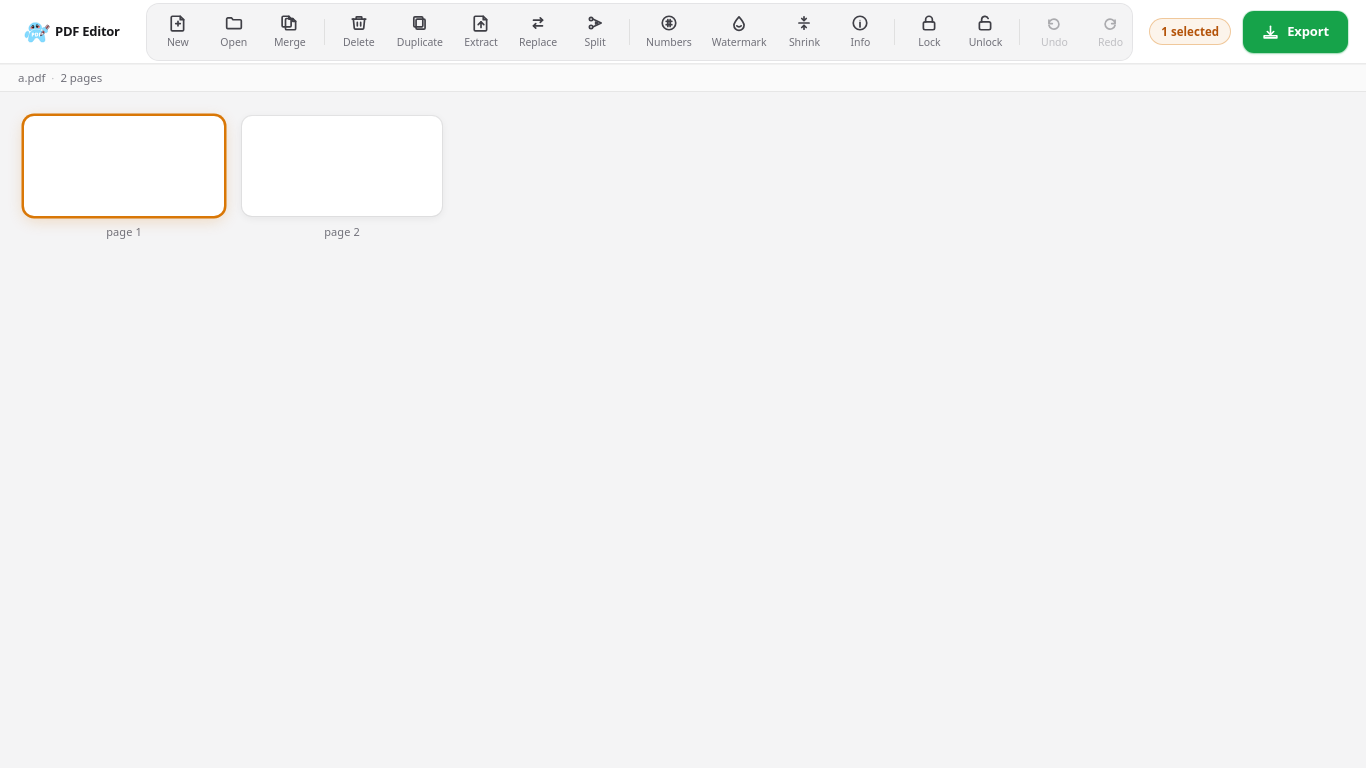
Test: Shrink file size opens the ShrinkModal
The image size is (1366, 768).
Click the button "Shrink": coordinates (804, 32) [778,8,832,56]
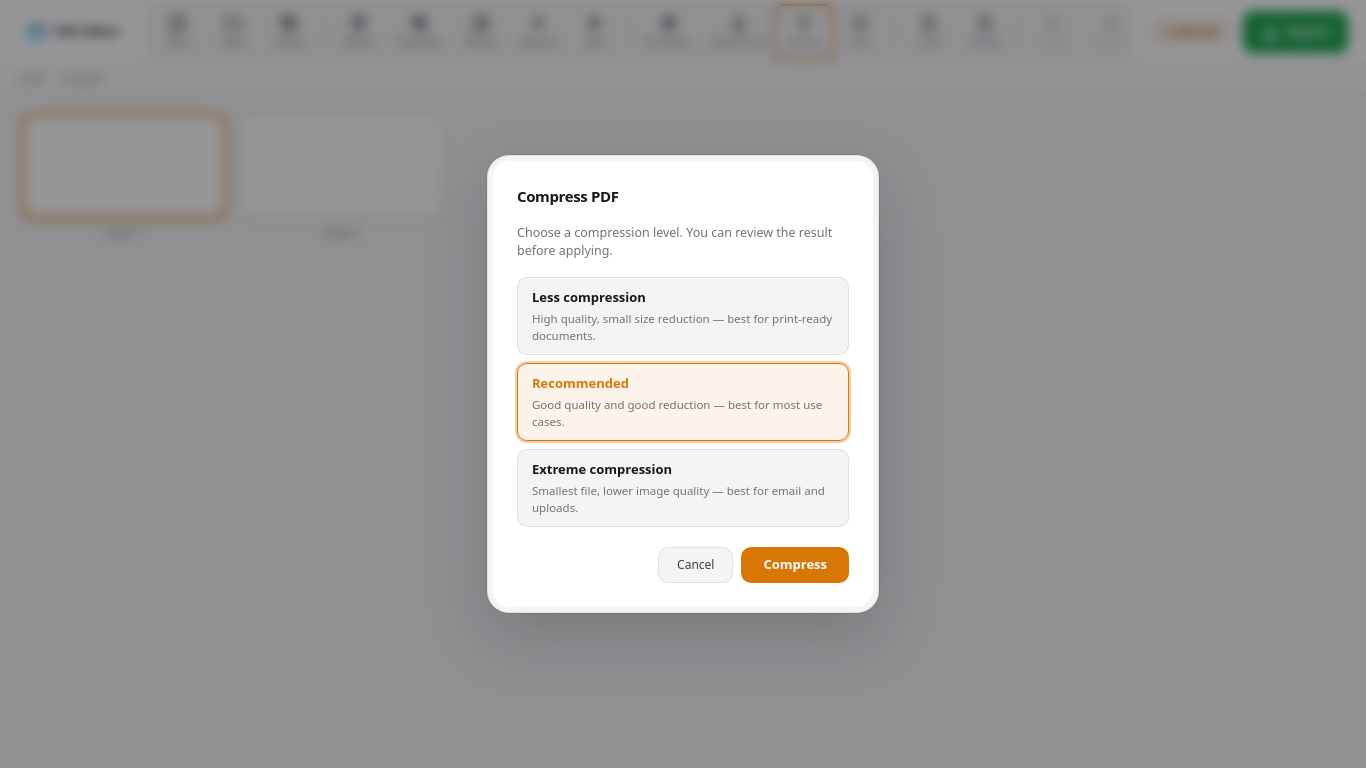
expect the heading "Compress PDF" is shown: met, box [517,186,618,206]
expect the text "Less compression" is shown: met, box [532,288,646,308]
expect the text "Recommended" is shown: met, box [532,374,629,394]
